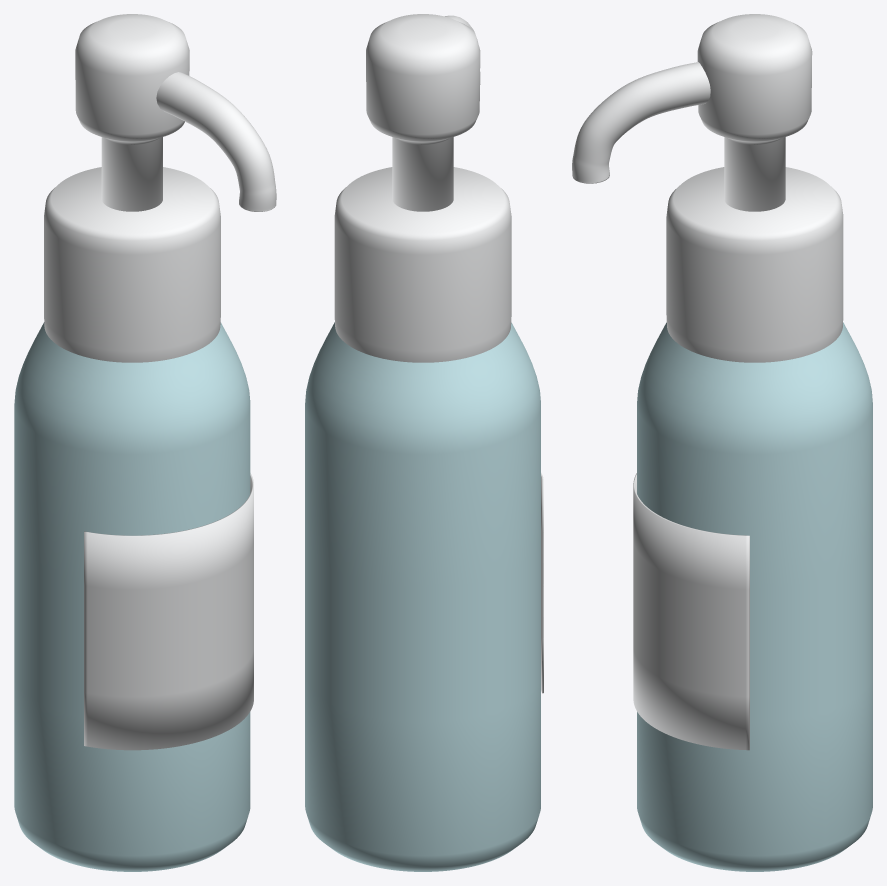
3 renders of one model, left to right at view 1: azimuth 30°, elevation 25°; view 2: azimuth 150°, elevation 25°; view 3: azimuth 270°, elevation 25°, orthographic.
Parts seen in each view (by area): view 1: Bottle_Body.001, Label_50x40.001, Pump_Closure.001, Pump_Head.001, Pump_Nozzle.001; view 2: Bottle_Body.001, Pump_Closure.001, Pump_Head.001, Label_50x40.001; view 3: Bottle_Body.001, Pump_Closure.001, Label_50x40.001, Pump_Head.001, Pump_Nozzle.001.
Boxes of the visible parts, <box> form: Bottle_Body.001: <box>14,322,250,871</box>; Label_50x40.001: <box>84,473,253,750</box>; Pump_Closure.001: <box>44,167,220,362</box>; Pump_Head.001: <box>75,14,189,211</box>; Pump_Nozzle.001: <box>156,72,276,211</box>; Bottle_Body.001: <box>305,322,540,871</box>; Pump_Closure.001: <box>334,167,511,362</box>; Pump_Head.001: <box>366,14,480,211</box>; Label_50x40.001: <box>541,473,543,693</box>; Bottle_Body.001: <box>637,322,872,871</box>; Pump_Closure.001: <box>666,167,843,362</box>; Label_50x40.001: <box>633,473,749,750</box>; Pump_Head.001: <box>697,14,812,211</box>; Pump_Nozzle.001: <box>572,62,710,183</box>.
Bounding box in the file's own units: 0.0406 × 0.1503 × 0.051.
